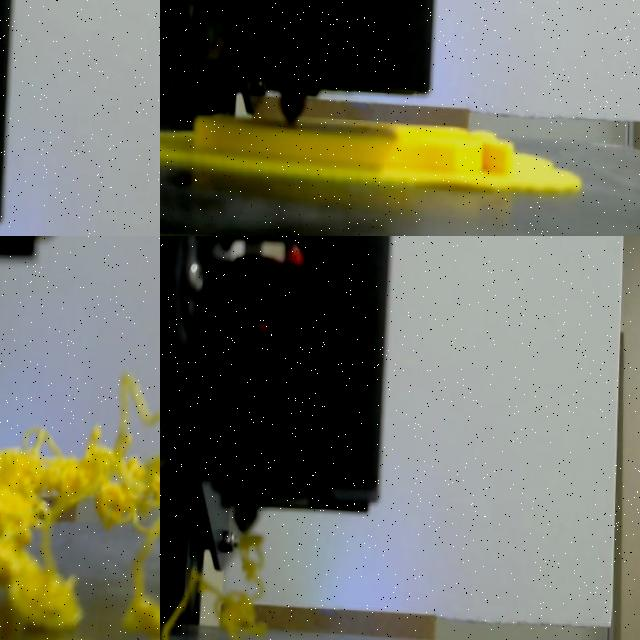spaghetti: (0, 383, 160, 640), (221, 594, 264, 640), (241, 536, 261, 583)
